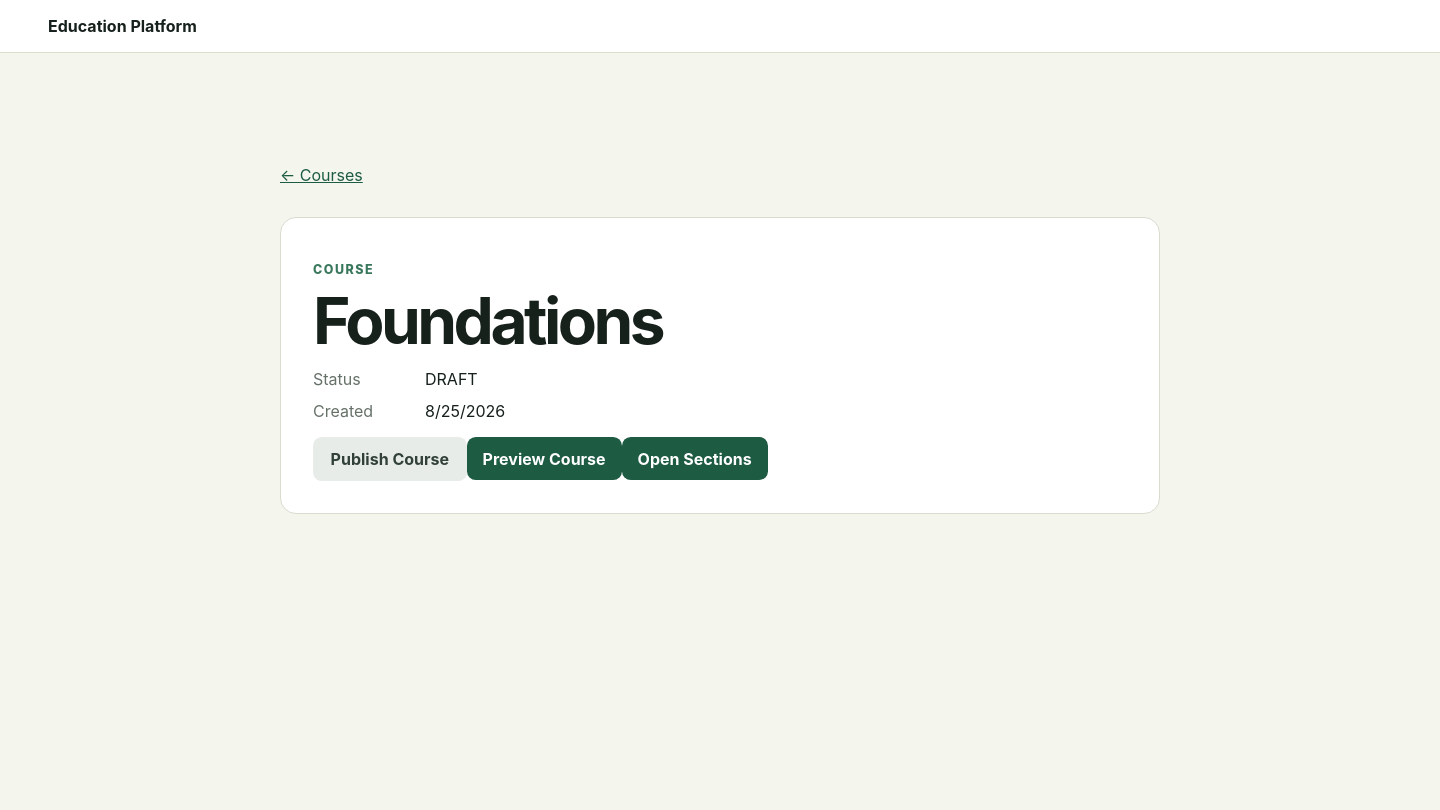
Course UI › surfaces a disabled Teacher Space conflict through the existing error path
Step 1. Click the button "Publish Course" → (390, 459), box [313,437,467,481]
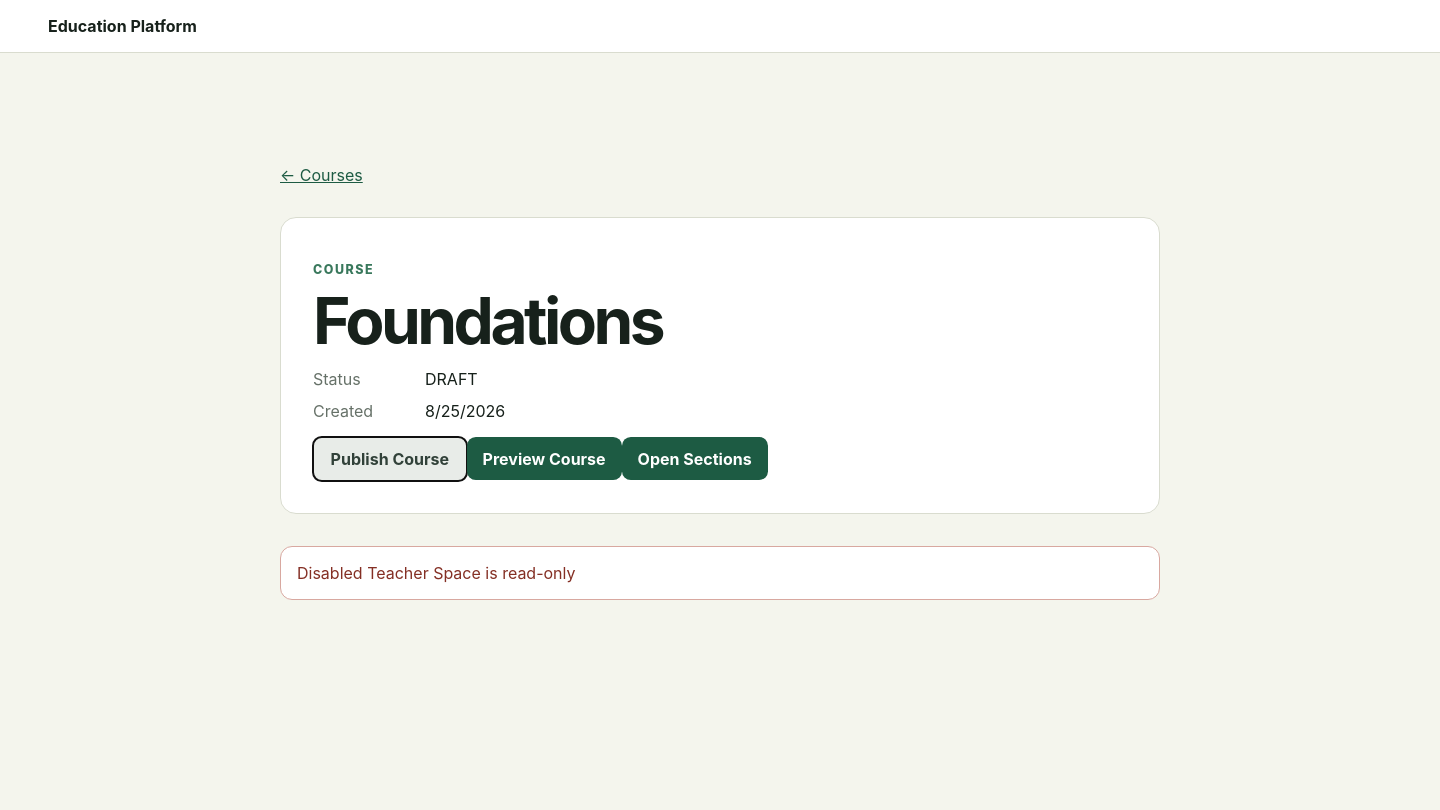
Expected: the text "DRAFT" is shown, [425,369,478,389]
Result: the message reads "Disabled Teacher Space is read-only" at [297,563,576,583]
